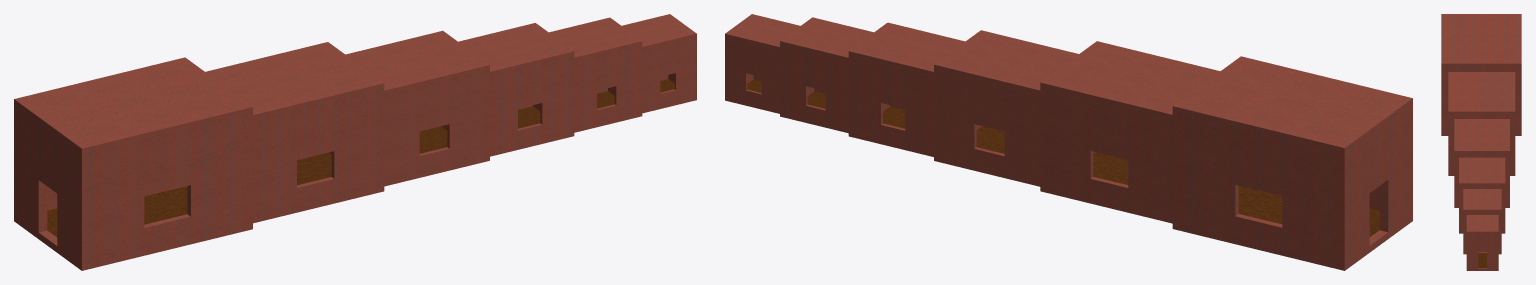
File: BOgdanGATAv2.fbx
3 views of the same model, side by side, from view 1: azimuth 30°, elevation 25°; view 2: azimuth 150°, elevation 25°; view 3: azimuth 270°, elevation 25° (orthographic). The views are drawn at different scales.
Parts seen in each view (by area): view 1: Cube.001; view 2: Cube.001; view 3: Cube.001.
Boxes of the visible parts, x1,y1,x2,y2 form: Cube.001: (14,14,696,270); Cube.001: (725,14,1412,270); Cube.001: (1441,14,1521,270).
Bounding box in the file's own units: 8831 × 1622 × 1631.
Materials: 2 (2 with a texture image).
